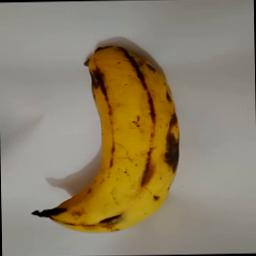Banana Unripe: (30, 38, 181, 234)
